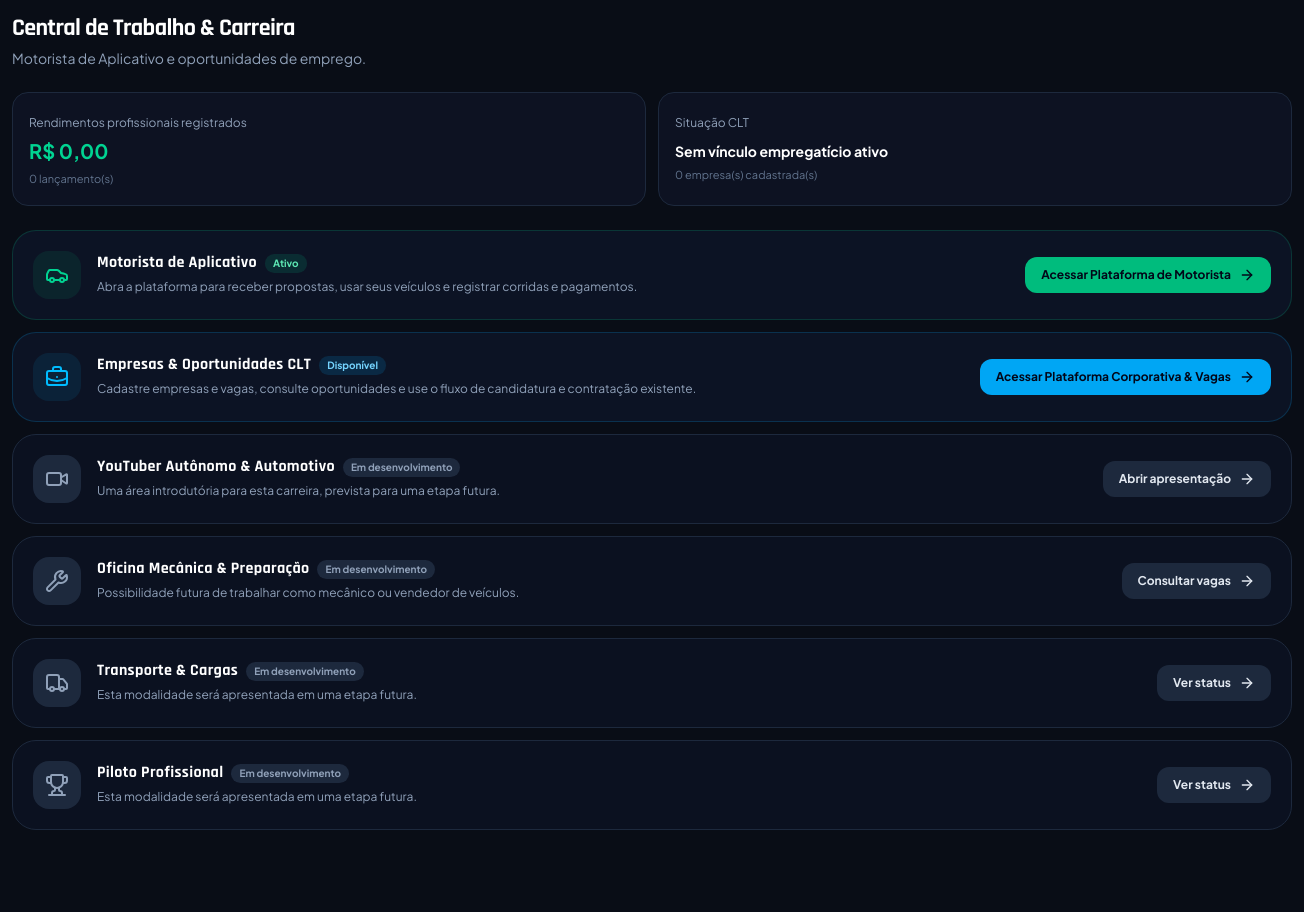
Test: Central de Trabalho & Carreira (JobsPage) › abre Motorista de Aplicativo e retorna à Central
The image size is (1304, 912).
Click the button "Acessar Plataforma de Motorista" at [1148, 275], box [1025, 257, 1271, 293]
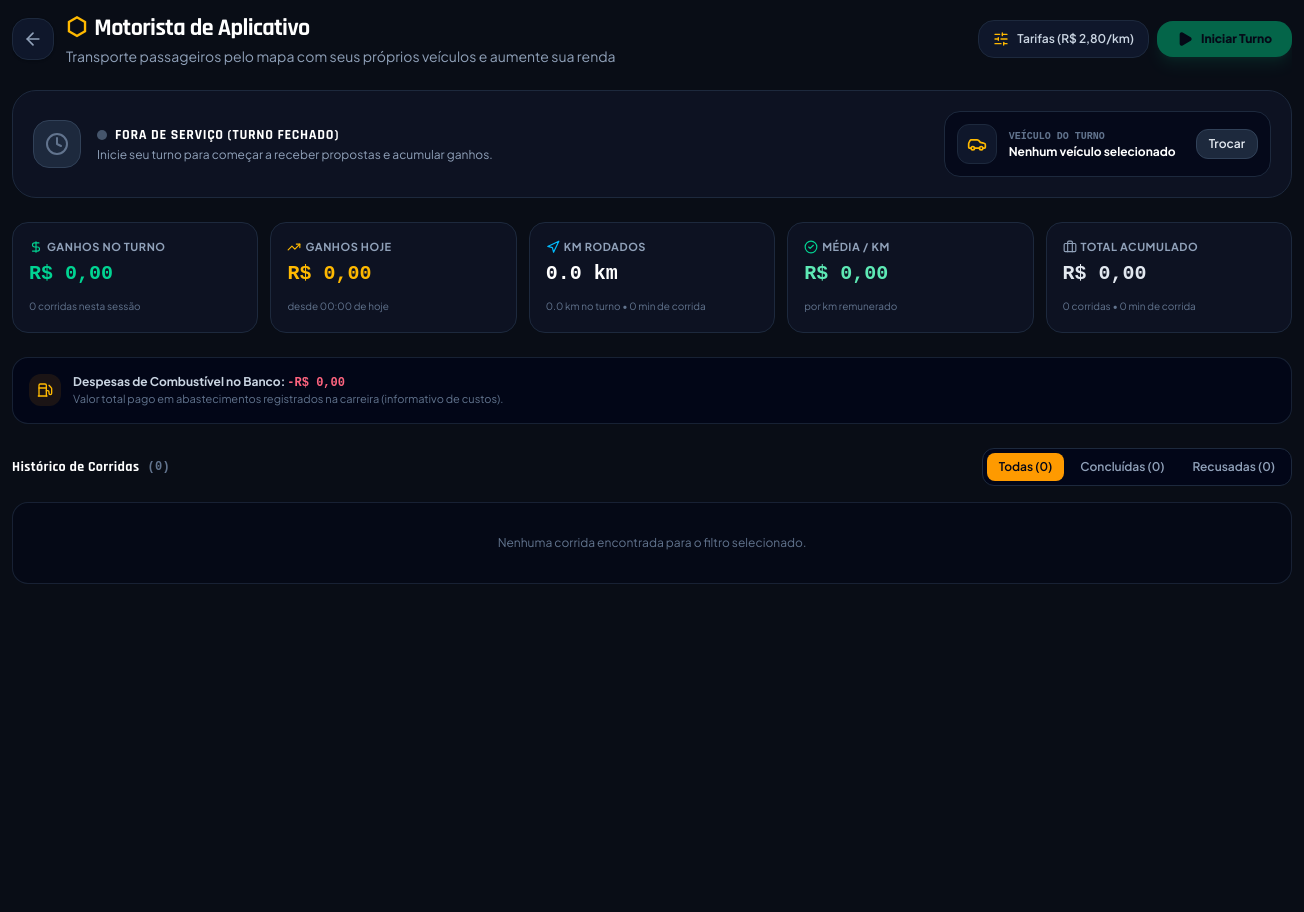
Now the text "Transporte passageiros pelo mapa com seus próprios veículos" is shown, box [66, 47, 616, 65]
Click the button titled "Voltar para a Central de Trabalho" at [33, 39], box [12, 18, 54, 60]
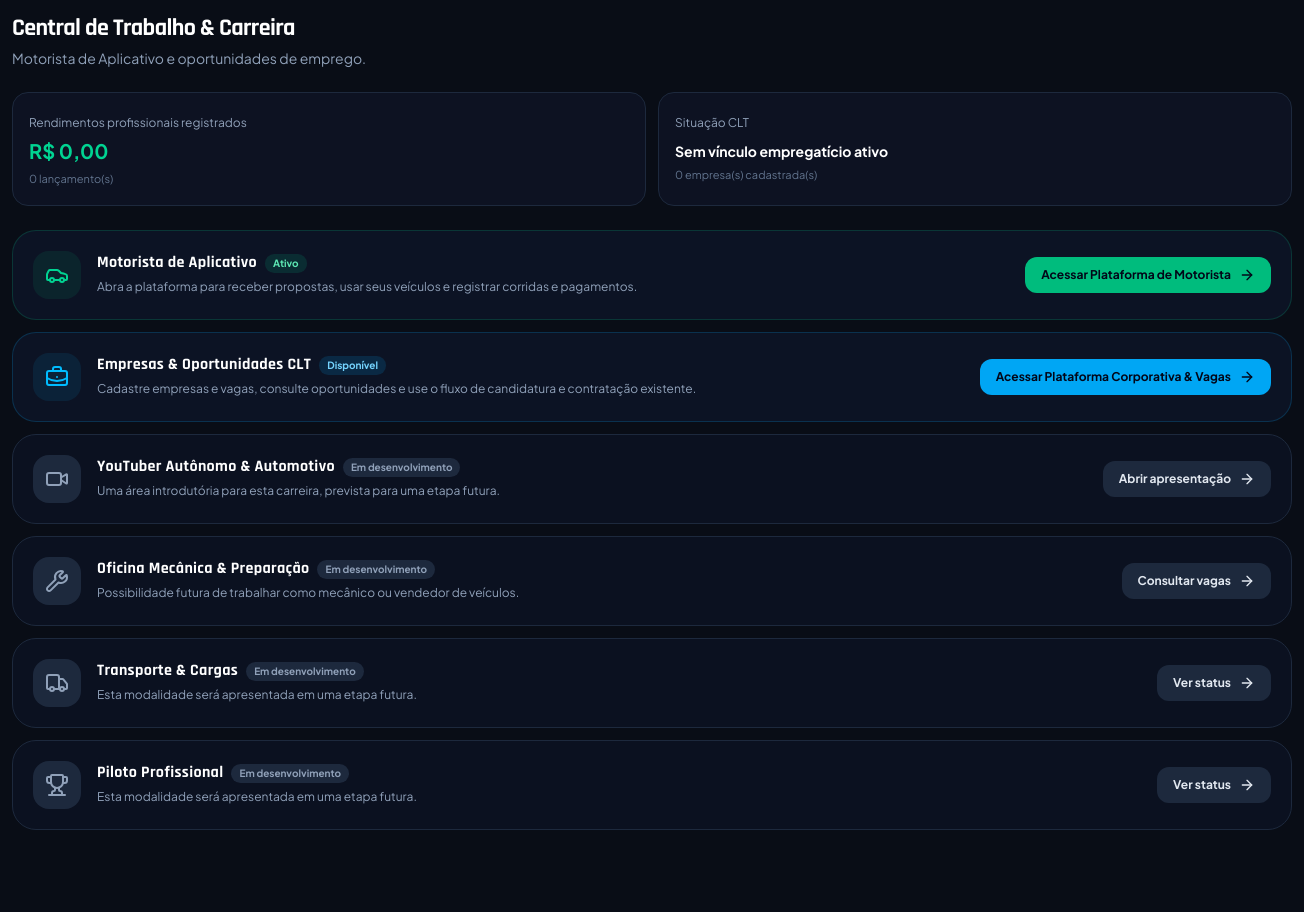
Now the heading "Central de Trabalho & Carreira" is shown, box [12, 13, 295, 43]
